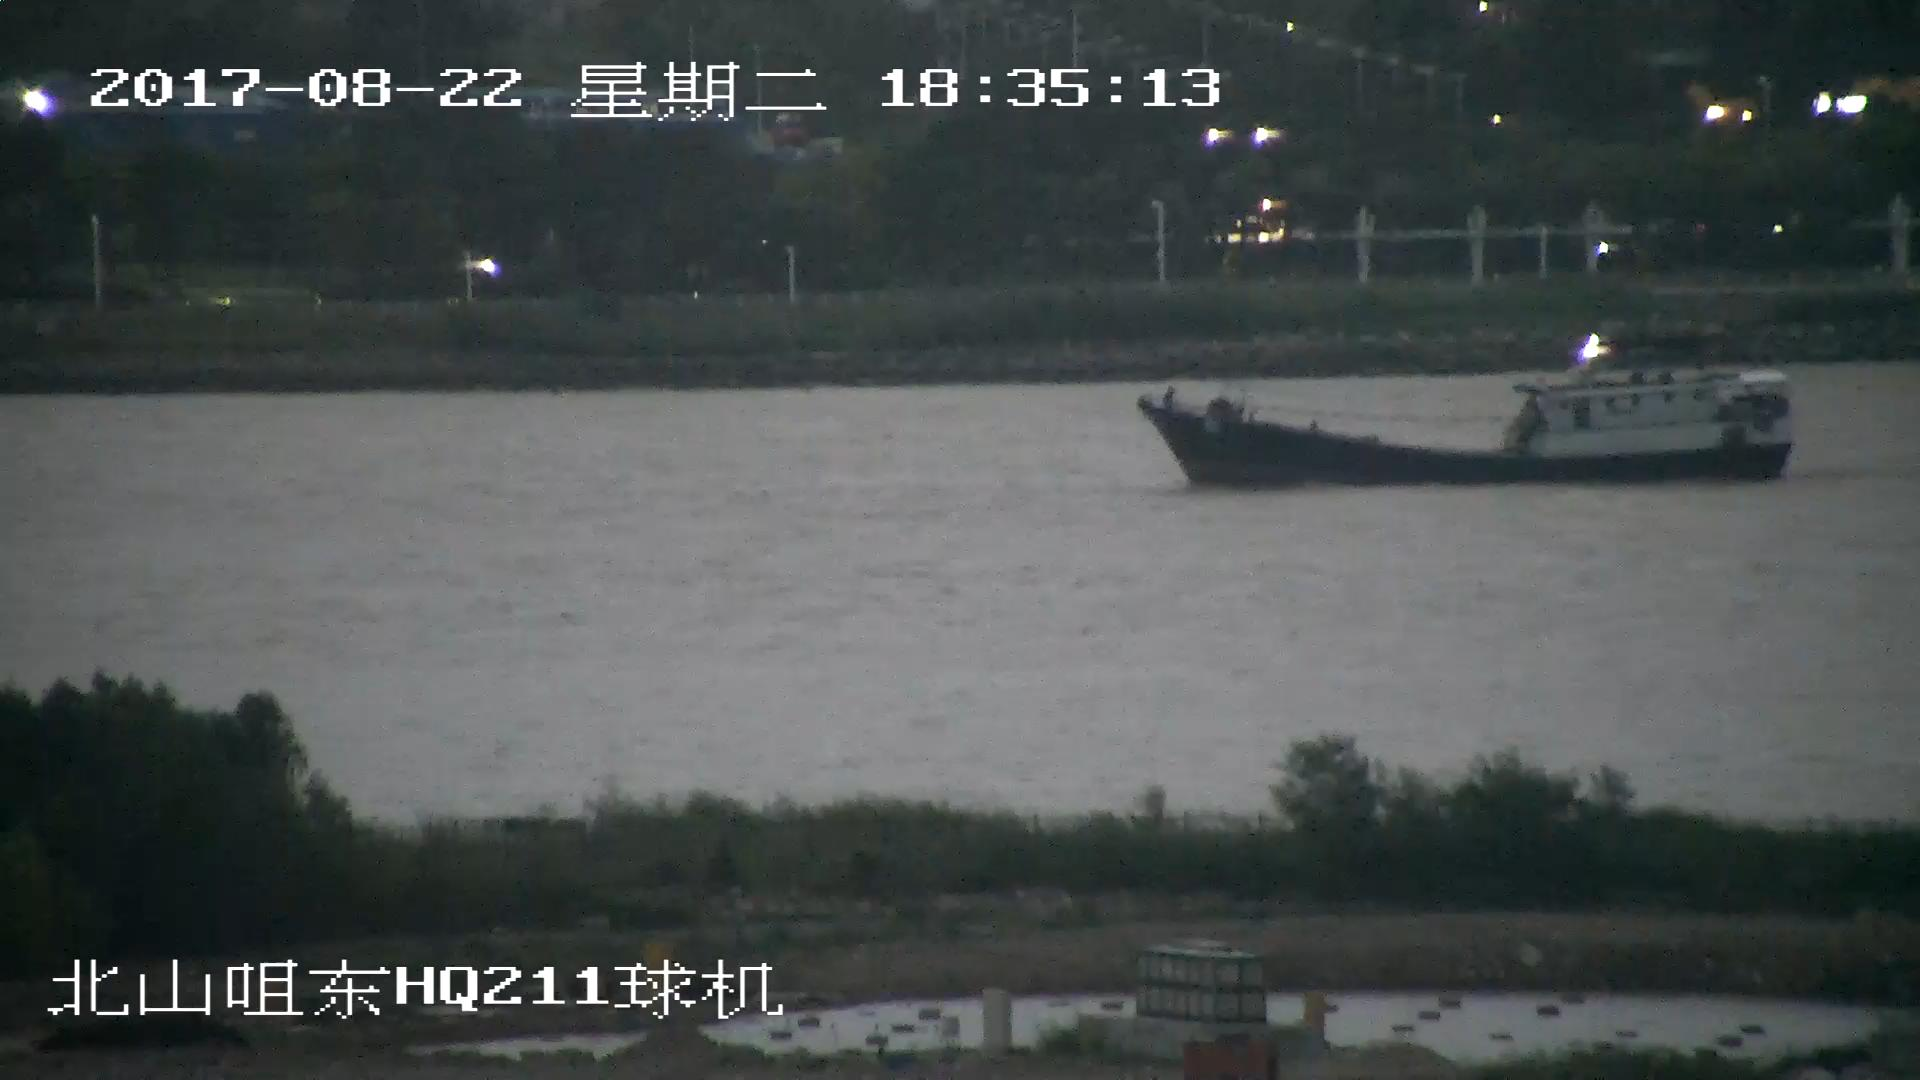fishing boat: (1159, 346, 1792, 484)
